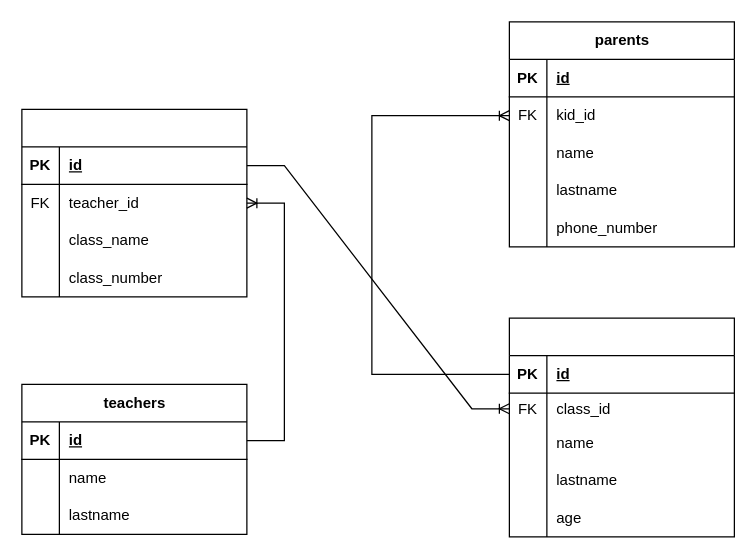
The diagram is 756 pixels wide and 559 high, and some of its shapes have lost their labels. The box of each missing label's shape, as (x1, y1, x2, y2) in pixels:
classes: (21, 108, 247, 297)
kids: (508, 317, 734, 537)
